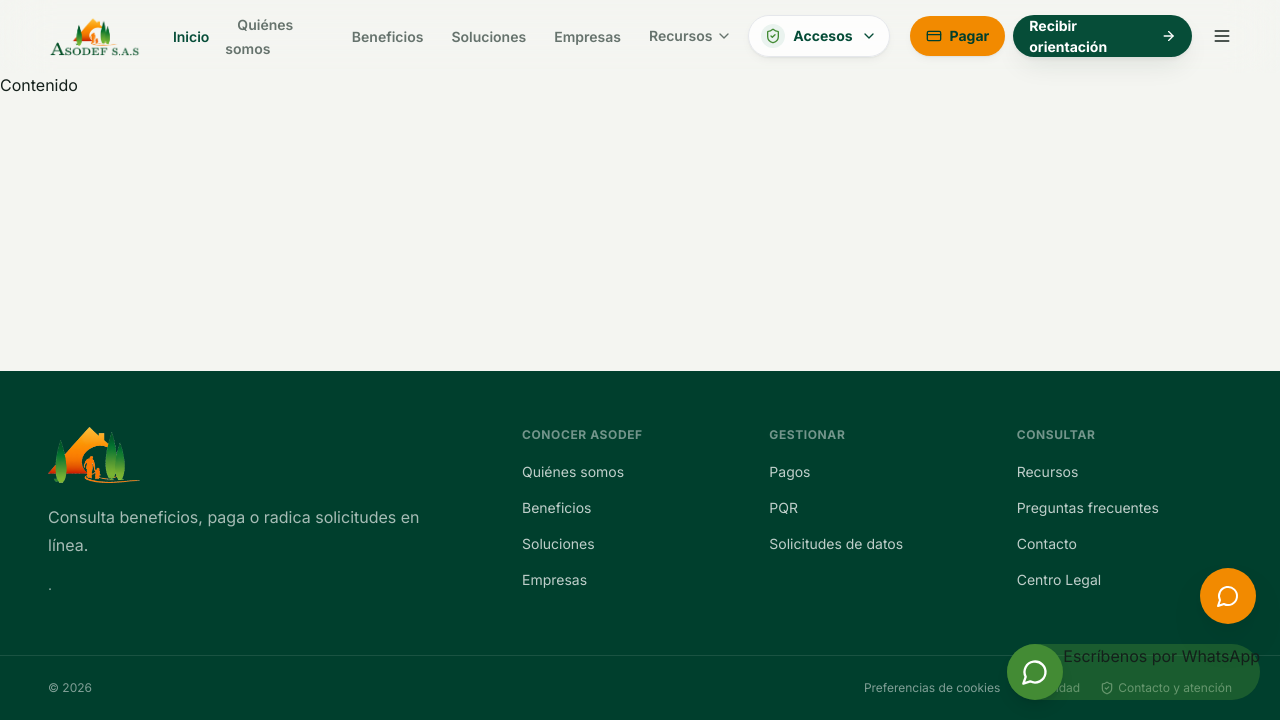
Test case: premium public navigation › keeps the exact mobile resources and action hierarchy without duplicates
The width and height of the screenshot is (1280, 720).
Step 1. Click the button named "Abrir menú de navegación" → (1222, 36), box x1=1212 y1=26 x2=1232 y2=46
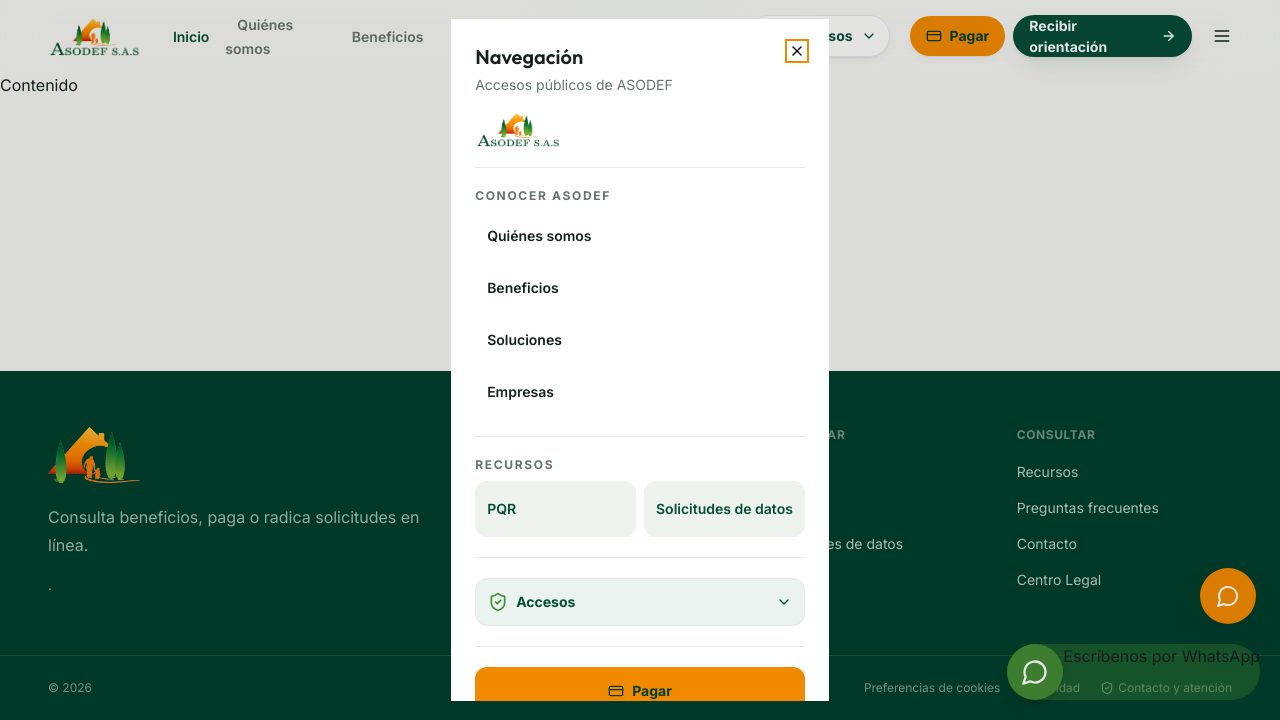
Step 2. Click the button "Accesos" → (546, 602), box x1=475 y1=578 x2=805 y2=626
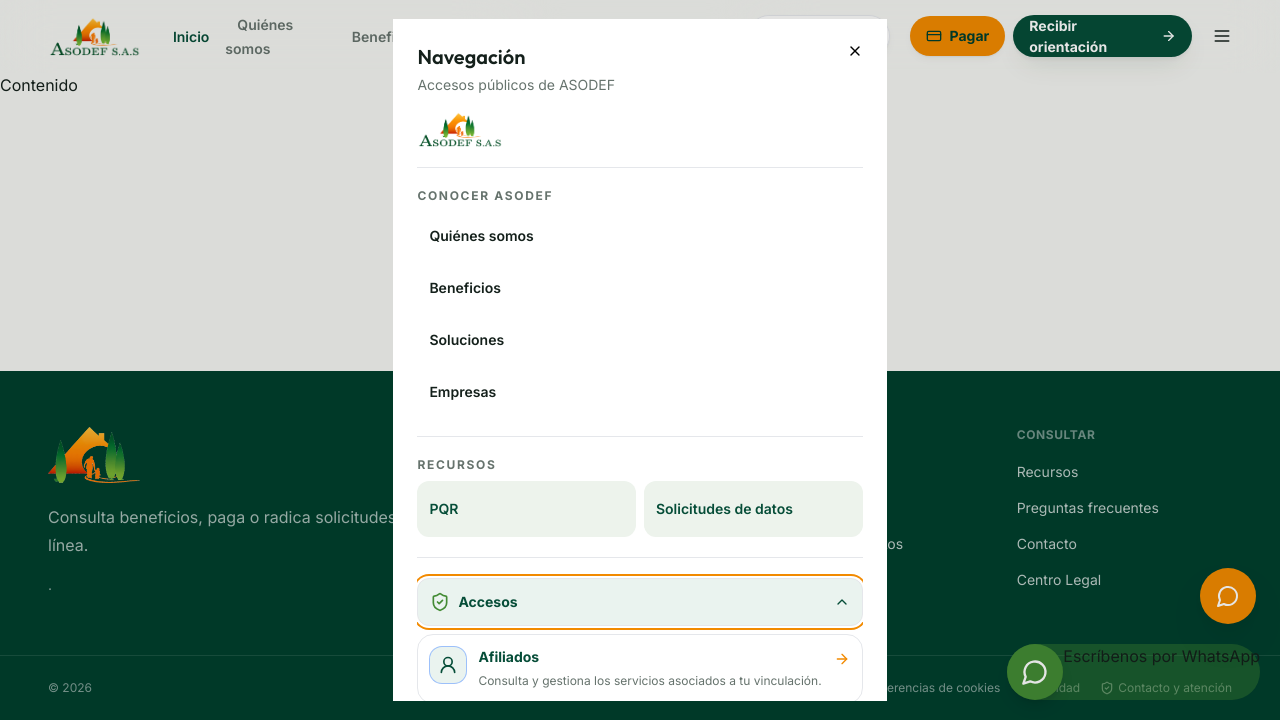
expect the link "Contacto" is not shown: met
expect the link "Solicitudes de datos" is shown: met, box x1=644 y1=481 x2=863 y2=537
expect the button "Accesos" is expanded: met, box x1=417 y1=578 x2=863 y2=626
